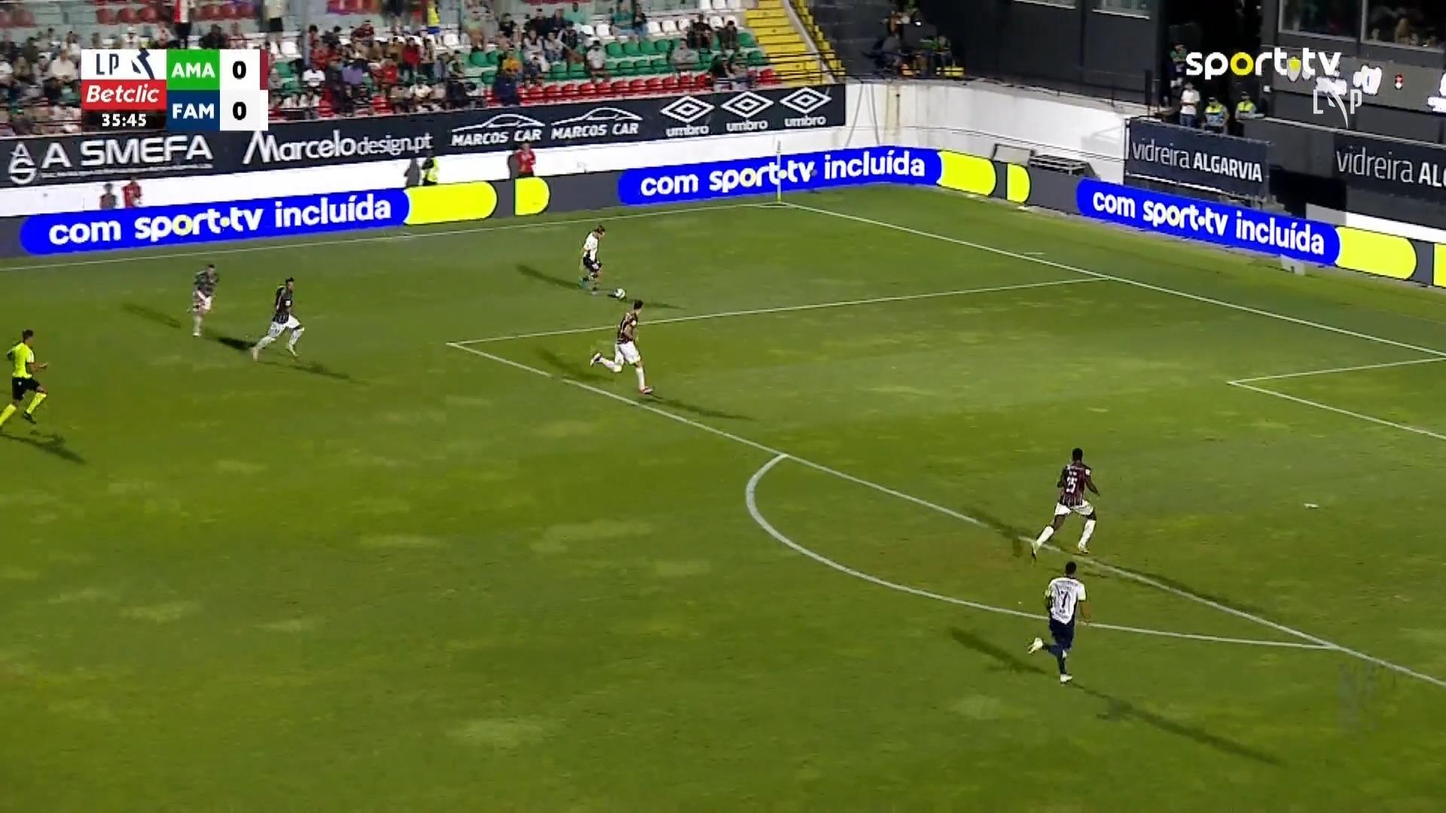ball: (614, 287, 625, 299)
player: (1029, 446, 1100, 562), (1025, 560, 1090, 684), (588, 298, 654, 394), (0, 327, 49, 432), (249, 276, 305, 361), (186, 262, 219, 337), (576, 223, 606, 293)
